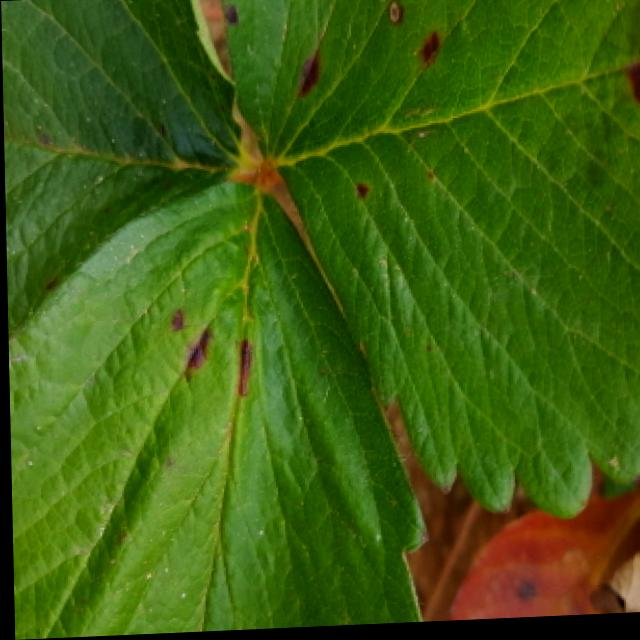Leaf Spot: (220, 0, 640, 524), (6, 182, 426, 640), (0, 0, 259, 338), (443, 488, 640, 625)
